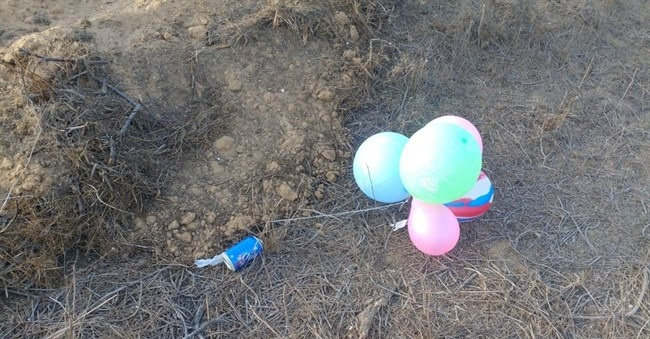Balloon: (403, 124, 482, 204), (353, 131, 414, 203), (408, 202, 461, 256)
